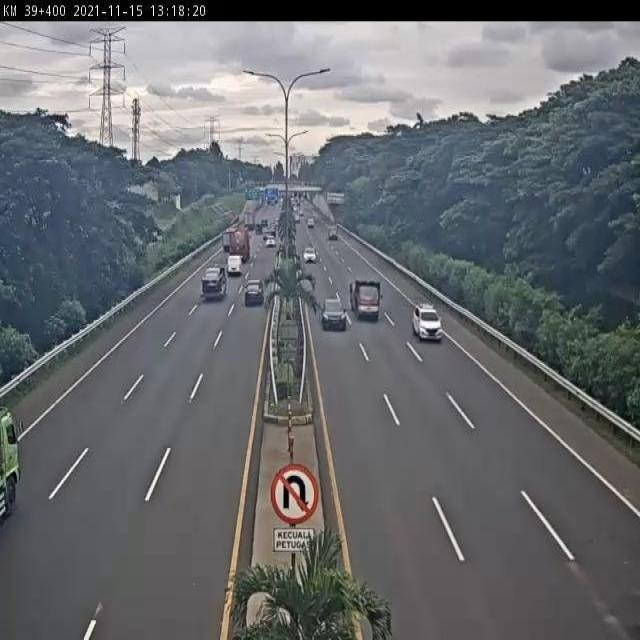Car: (413, 302, 444, 341), (321, 297, 348, 333), (243, 279, 265, 307), (302, 246, 317, 265)
Truck: (348, 278, 384, 321), (202, 266, 228, 301), (229, 227, 252, 263)
